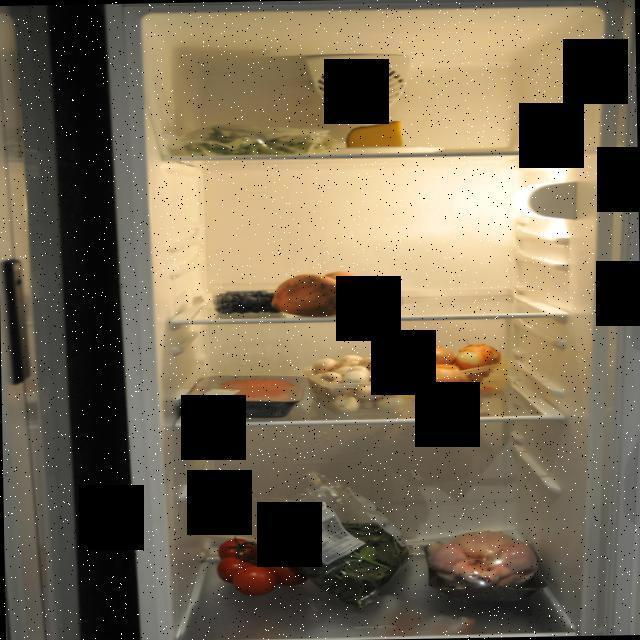beef: (200, 372, 296, 411)
blueberries: (208, 284, 285, 318)
cheese: (346, 118, 406, 152)
chicken: (418, 528, 551, 608)
green_beans: (162, 119, 340, 160)
mushrooms: (296, 350, 418, 412)
onion: (409, 340, 509, 398)
spinach: (266, 499, 418, 611)
sweet_potato: (265, 270, 409, 324)
tomato: (210, 531, 318, 598)
